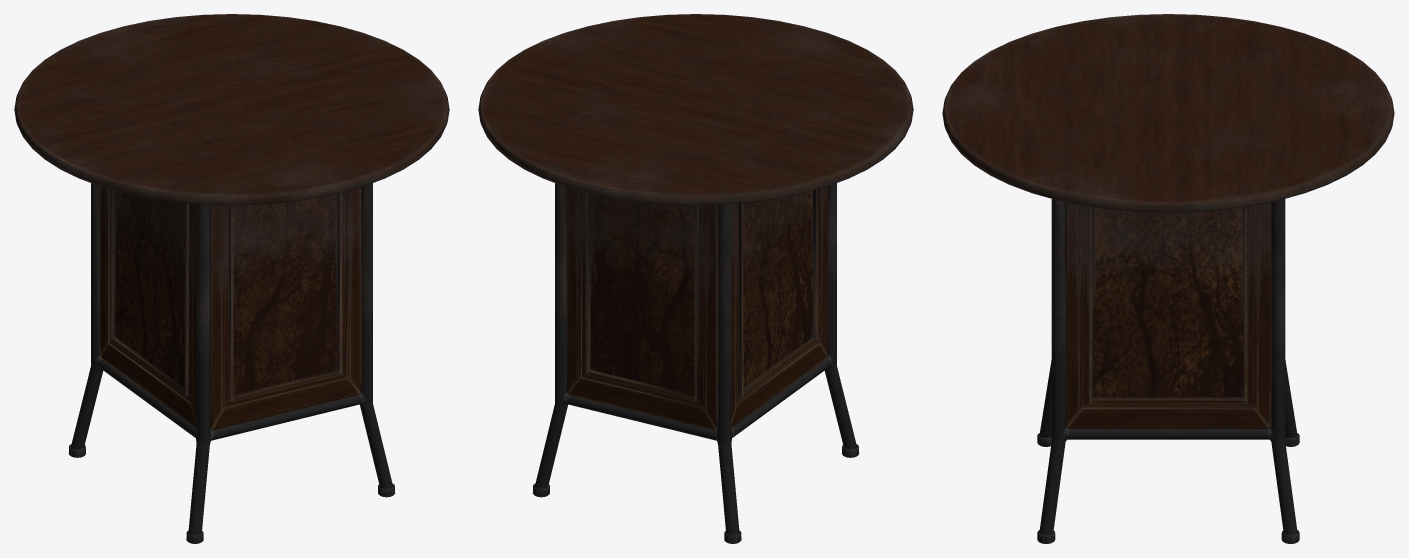
File: round_wooden_table.fbx
3 views of the same model, side by side, from view 1: azimuth 30°, elevation 25°; view 2: azimuth 150°, elevation 25°; view 3: azimuth 270°, elevation 25° (orthographic). The views are drawn at different scales.
Visible parts, largest first — view 1: round_wooden_table; view 2: round_wooden_table; view 3: round_wooden_table.
Boxes of the visible parts, bbox=[...] form: round_wooden_table: bbox=[14, 14, 449, 543]; round_wooden_table: bbox=[478, 14, 913, 543]; round_wooden_table: bbox=[942, 14, 1394, 543].
Size of the model in its own units: 79.62 by 74.6 by 79.62.
